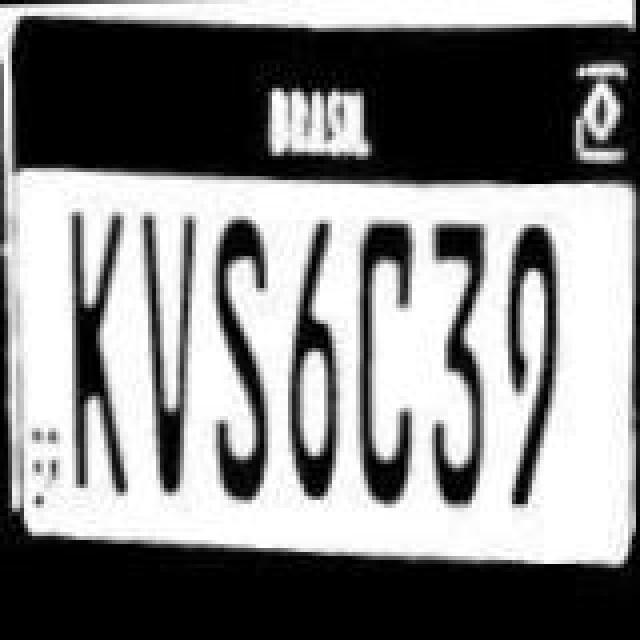3: (424, 220, 492, 516)
6: (276, 210, 352, 518)
9: (494, 212, 566, 520)
C: (356, 220, 424, 520)
K: (58, 200, 138, 508)
S: (200, 212, 276, 516)
V: (138, 204, 202, 500)
